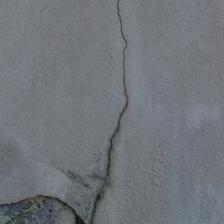Crack: (56, 0, 169, 148), (0, 66, 155, 94)
